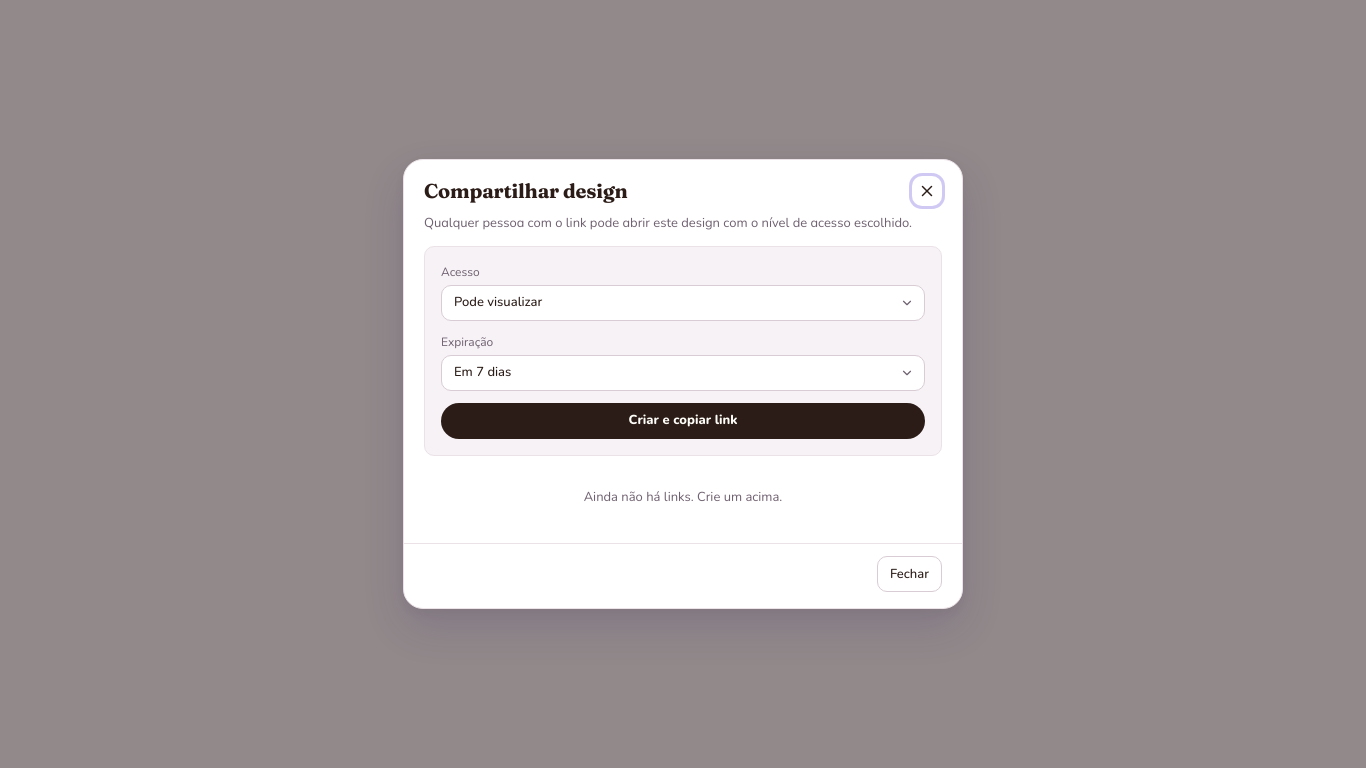
Test: ShareDialog › creates links with seven-day expiration by default and shows their expiry
Expected: the dropdown with test id "share-expiry" shows "Em 7 dias", [441,354,925,390]
Click the button with test id "share-create": (683, 420) [441,402,925,438]
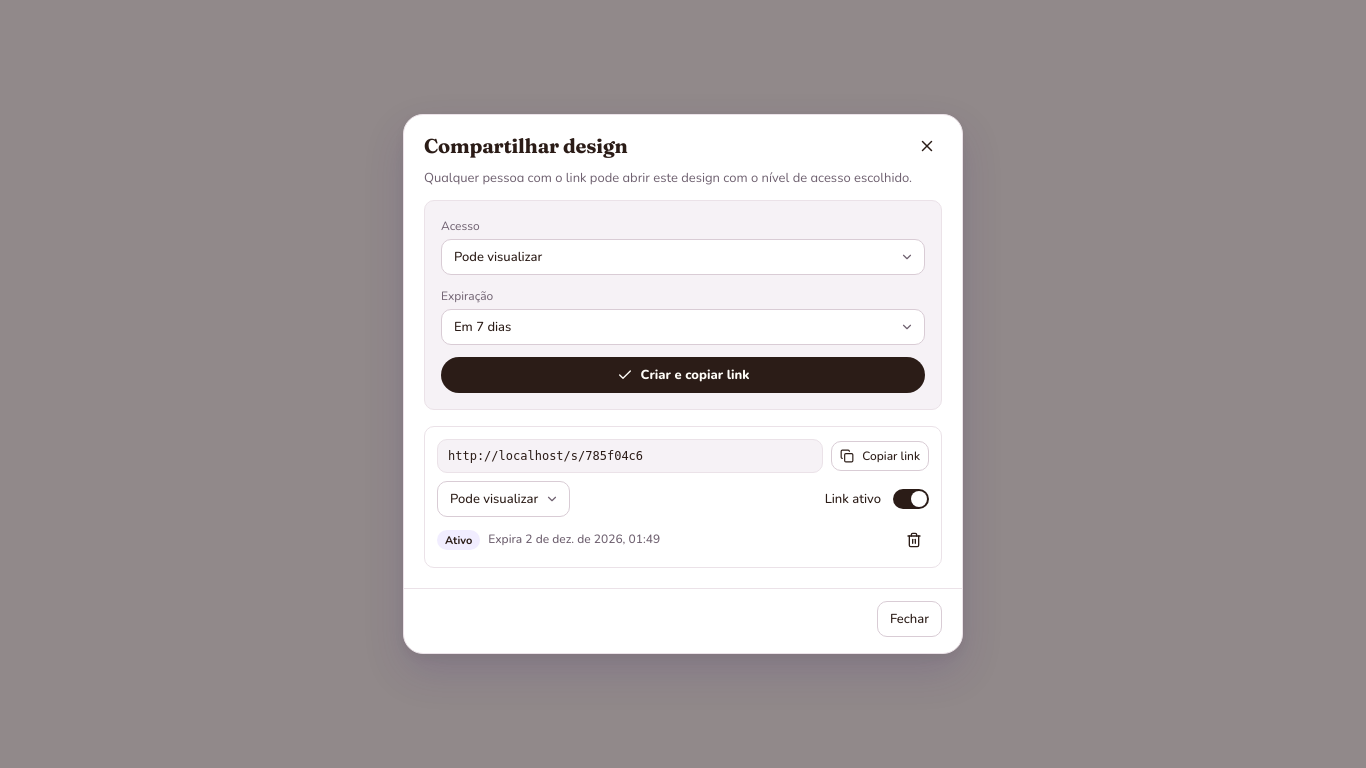
Expected: the list item with test id "share-link" is shown, [424,426,942,568]
Expected: the text "Expira " is shown, [488,532,660,548]
